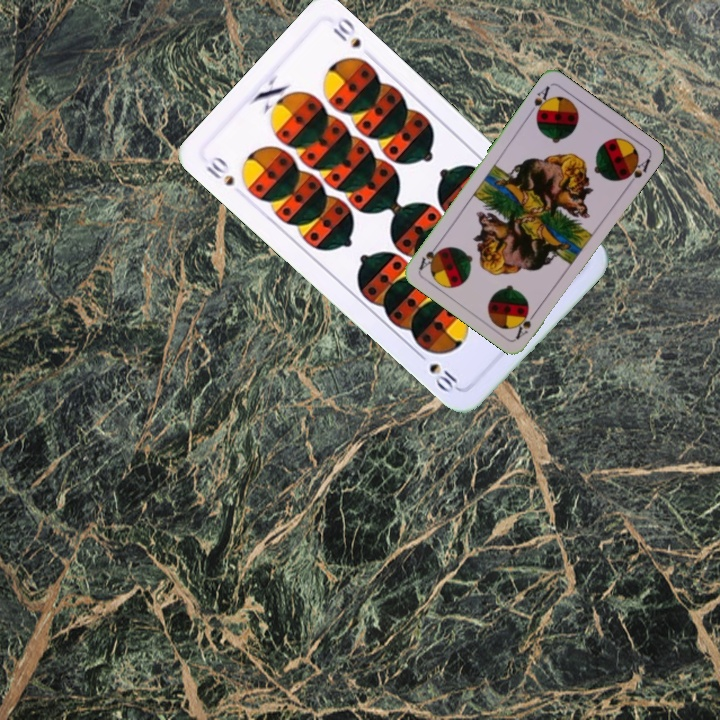S10: (202, 152, 237, 189)
SA: (525, 82, 554, 121), (512, 306, 540, 342)
